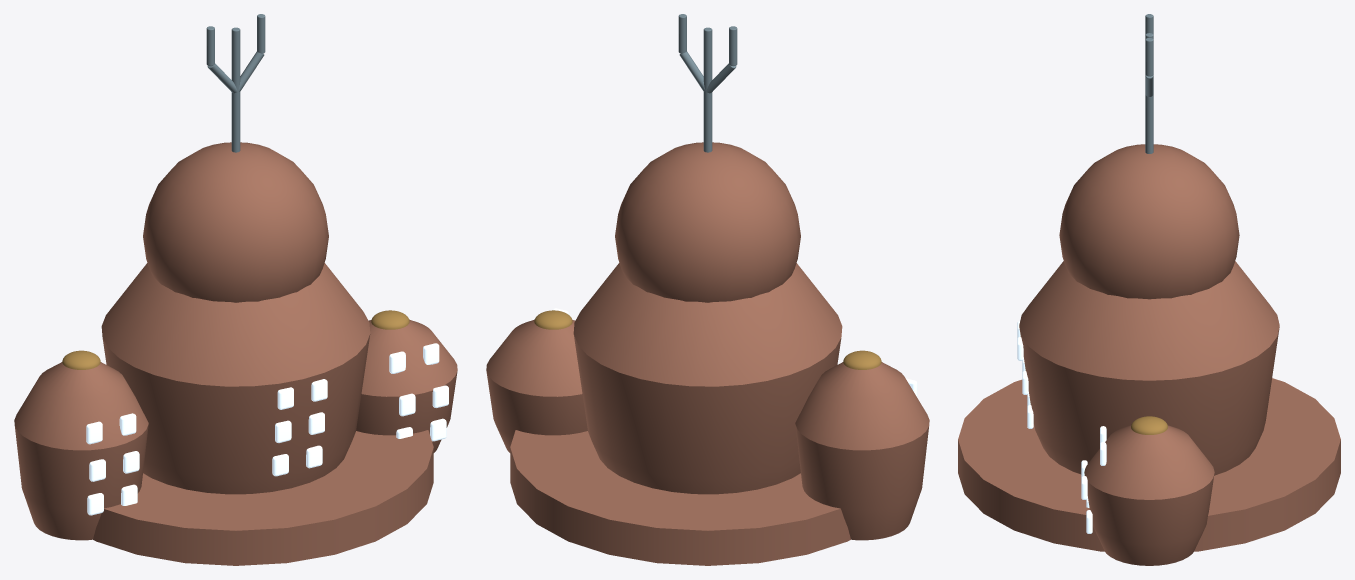
3 views of the same model, side by side, from view 1: azimuth 30°, elevation 25°; view 2: azimuth 150°, elevation 25°; view 3: azimuth 270°, elevation 25° (orthographic). The views are drawn at different scales.
Visible parts, largest first — view 1: Bulb shaped chamber, Foundation drum, Stacked rounded vessel, Bulb shaped chamber.002, Bulb shaped chamber.001, Aerial stem, Tower crown.001, Tower crown.002; view 2: Bulb shaped chamber, Foundation drum, Stacked rounded vessel, Bulb shaped chamber.002, Bulb shaped chamber.001, Aerial stem, Tower crown.001, Tower crown.002; view 3: Bulb shaped chamber, Foundation drum, Stacked rounded vessel, Bulb shaped chamber.001, Aerial stem, Tower crown.001.
Part boxes in pixels (<box>): Bulb shaped chamber: <box>101,263,370,494</box>; Foundation drum: <box>93,430,433,565</box>; Stacked rounded vessel: <box>143,142,328,302</box>; Bulb shaped chamber.002: <box>14,362,148,540</box>; Bulb shaped chamber.001: <box>356,319,457,452</box>; Aerial stem: <box>231,27,240,152</box>; Tower crown.001: <box>371,310,409,329</box>; Tower crown.002: <box>62,350,100,369</box>; Bulb shaped chamber: <box>573,263,842,494</box>; Foundation drum: <box>510,430,850,565</box>; Stacked rounded vessel: <box>615,142,800,302</box>; Bulb shaped chamber.002: <box>795,362,929,540</box>; Bulb shaped chamber.001: <box>486,319,587,452</box>; Aerial stem: <box>703,27,712,152</box>; Tower crown.001: <box>534,310,572,329</box>; Tower crown.002: <box>843,350,881,369</box>; Bulb shaped chamber: <box>1019,261,1279,475</box>; Foundation drum: <box>958,378,1340,551</box>; Stacked rounded vessel: <box>1059,144,1239,299</box>; Bulb shaped chamber.001: <box>1084,425,1214,565</box>; Aerial stem: <box>1145,33,1153,153</box>; Tower crown.001: <box>1131,416,1167,434</box>.
Bounding box in the file's own units: 2.53 × 2.62 × 2.04.
